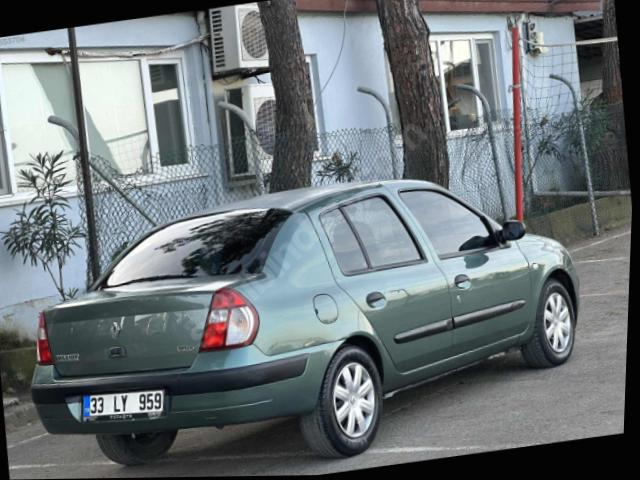plaka: (81, 390, 164, 422)
